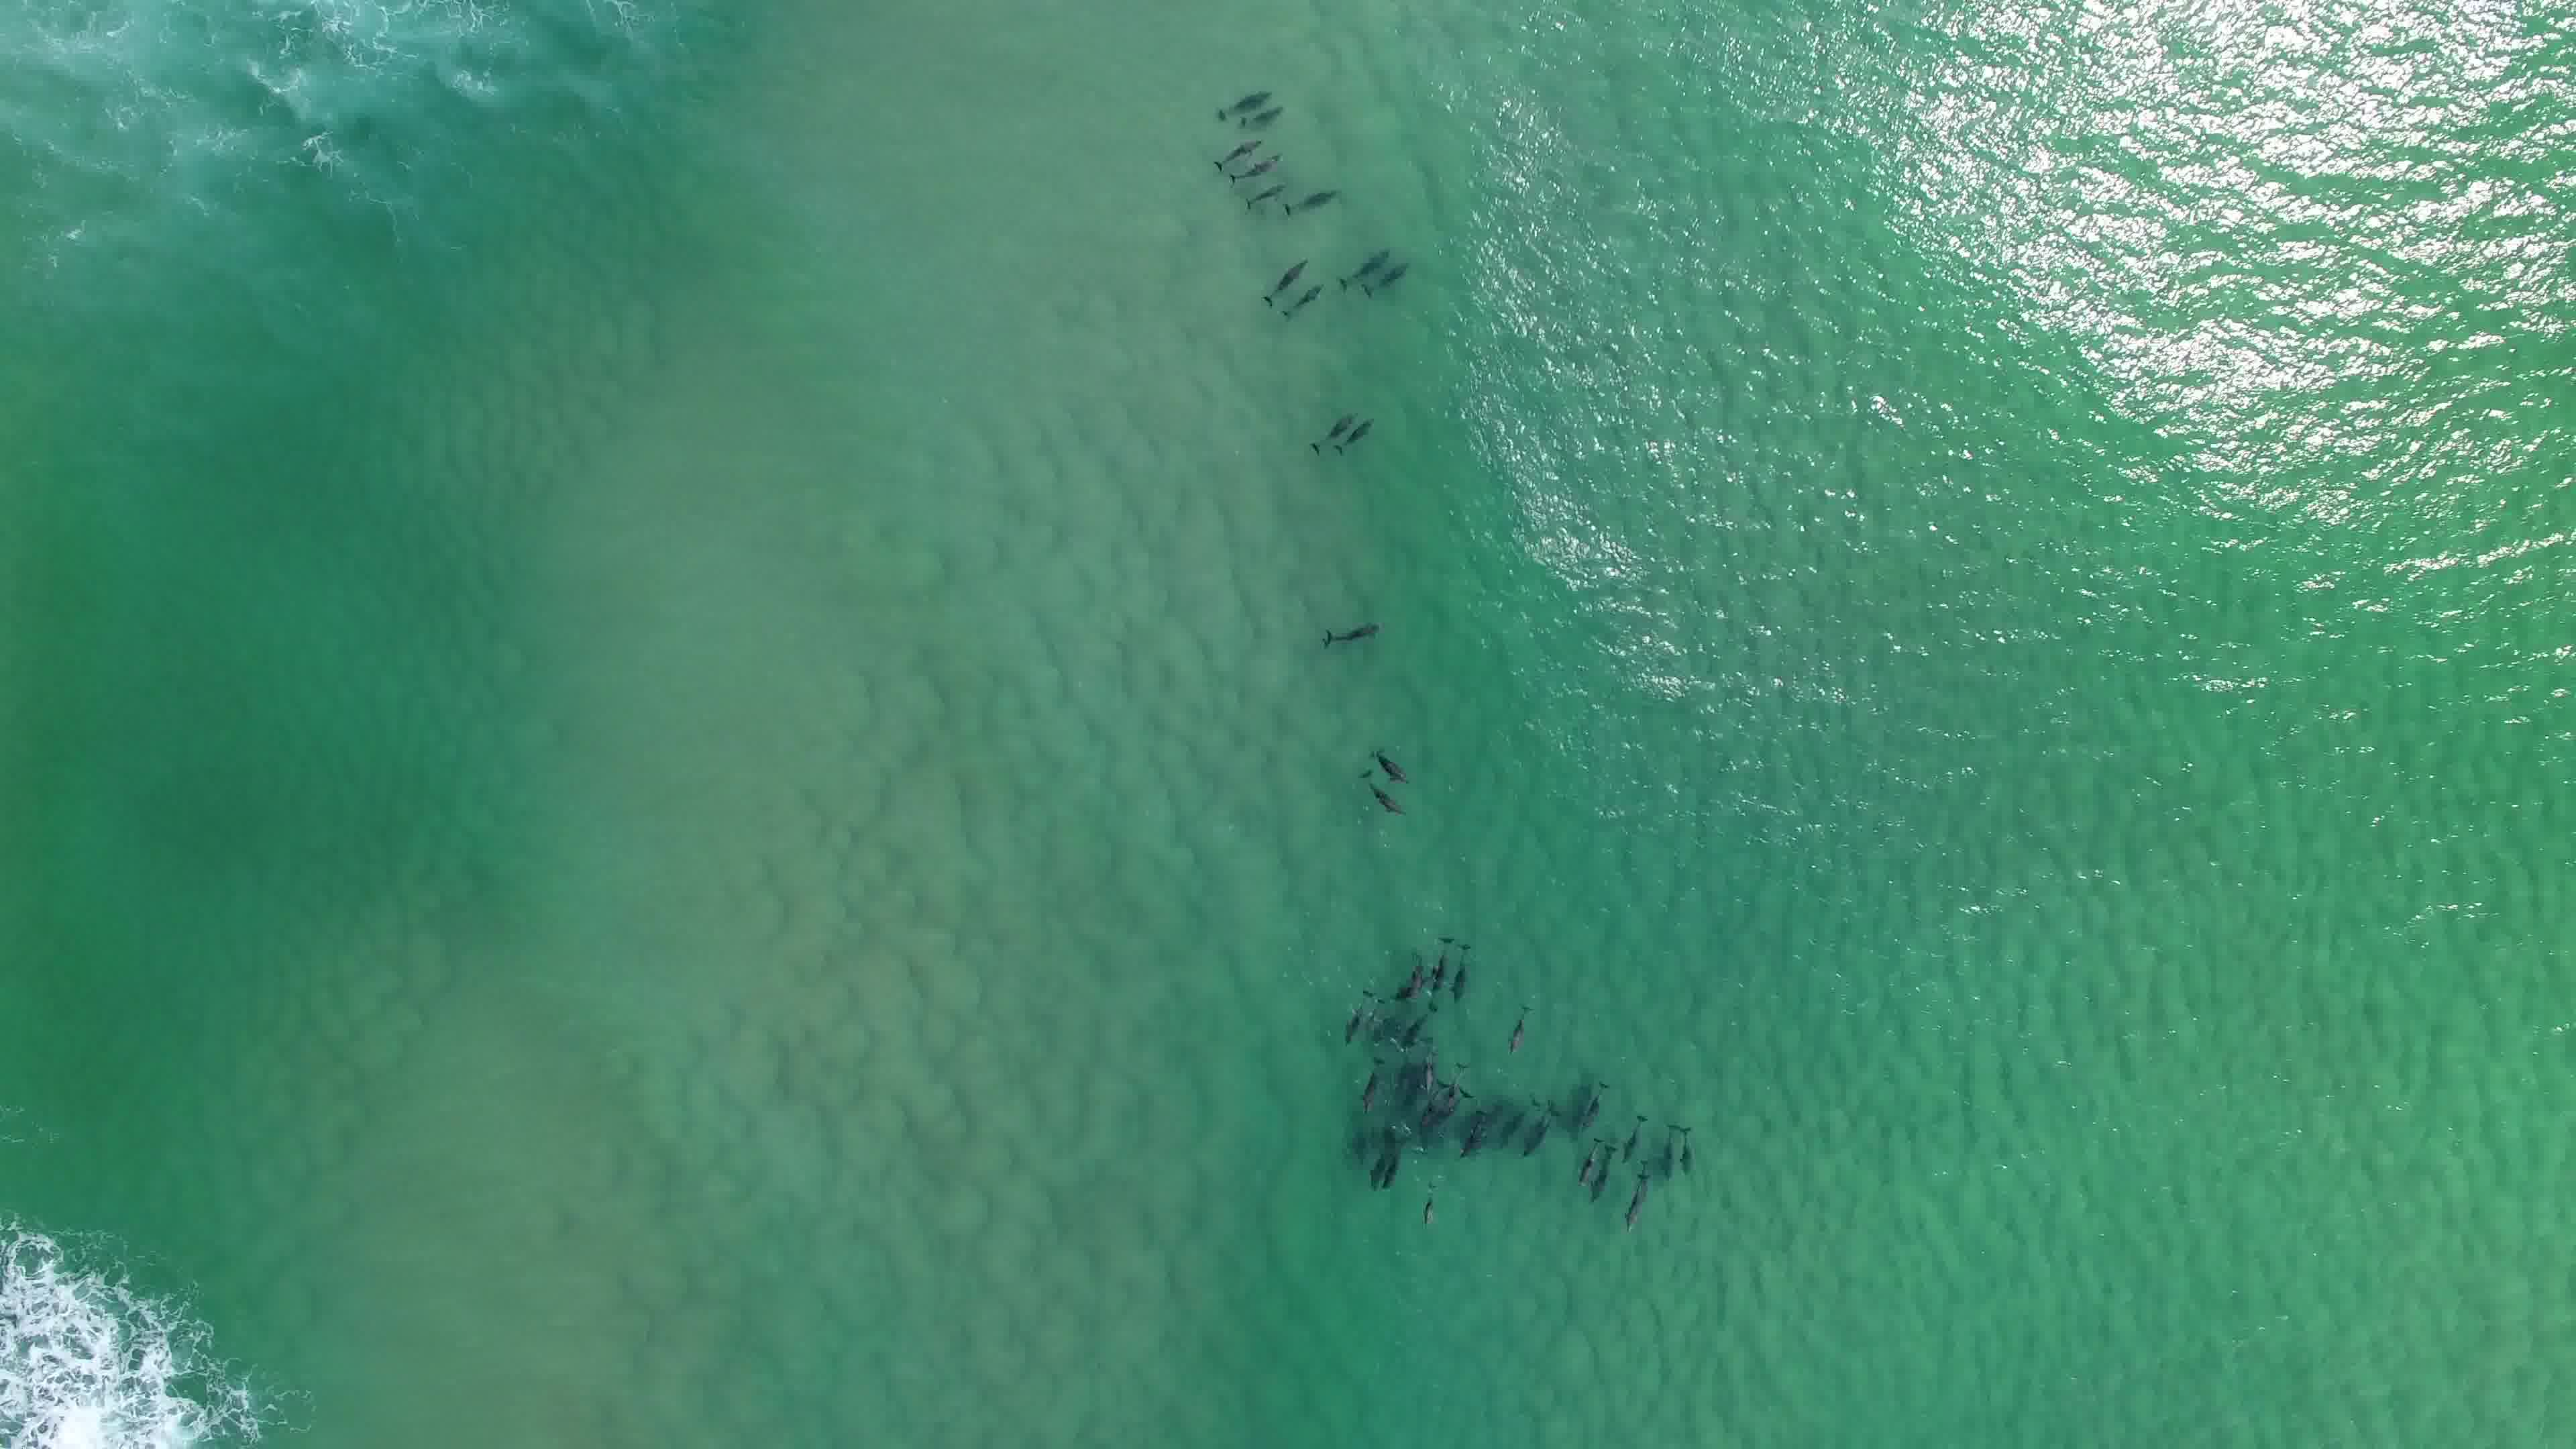dolphin: (1311, 605, 1389, 660), (1338, 766, 1410, 824), (1299, 391, 1353, 453), (1362, 734, 1419, 791), (1269, 271, 1330, 322), (1270, 173, 1343, 216), (1330, 232, 1398, 276), (1207, 74, 1274, 117), (1433, 1060, 1468, 1139), (1369, 1123, 1408, 1191), (1334, 985, 1373, 1049), (1461, 1092, 1504, 1148), (1357, 258, 1415, 299), (1226, 145, 1288, 180), (1412, 1180, 1449, 1238), (1500, 1001, 1537, 1056), (1523, 1097, 1562, 1148), (1258, 257, 1311, 294), (1426, 932, 1454, 1001), (1336, 409, 1376, 456), (1201, 133, 1265, 163), (1396, 950, 1430, 1007), (1626, 1159, 1652, 1230), (1449, 939, 1474, 1014), (1355, 1051, 1387, 1108), (1502, 1092, 1530, 1154), (1414, 1042, 1445, 1097), (1238, 172, 1290, 203), (1617, 1104, 1645, 1161), (1238, 103, 1293, 131), (1362, 987, 1387, 1046), (1654, 1120, 1677, 1180), (1596, 1143, 1617, 1207), (1578, 1132, 1601, 1191), (1580, 1079, 1606, 1127), (1675, 1120, 1695, 1180)
